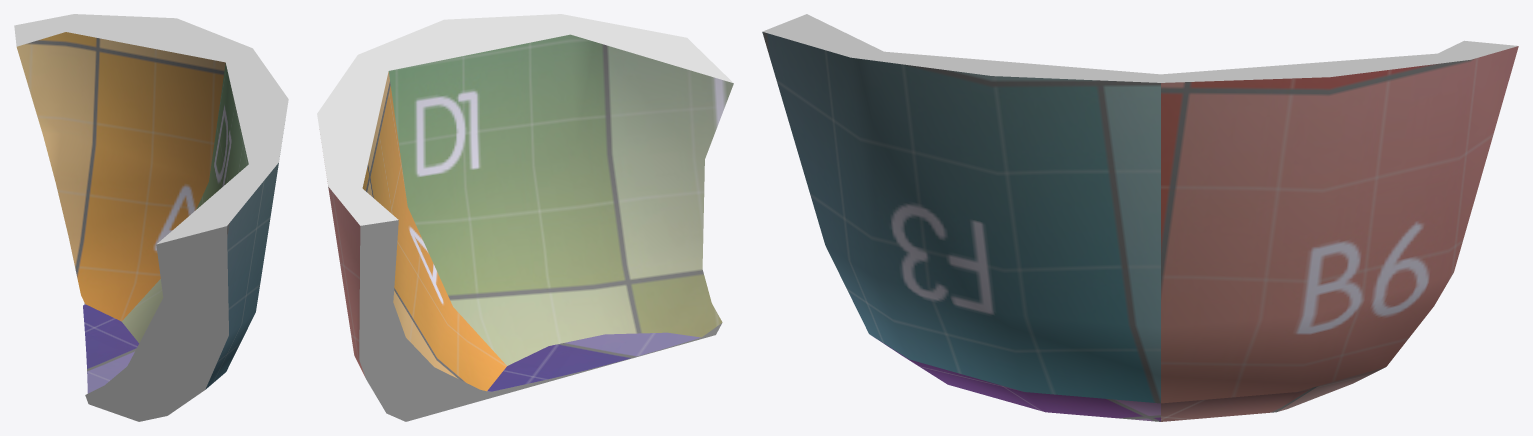
Rendered from MediumUrn_SHAT_cell_002.fbx.
3 views of the same model, side by side, from view 1: azimuth 30°, elevation 25°; view 2: azimuth 150°, elevation 25°; view 3: azimuth 270°, elevation 25° (orthographic). The views are drawn at different scales.
Visible parts, largest first — view 1: MediumUrn_SHAT_cell_002; view 2: MediumUrn_SHAT_cell_002; view 3: MediumUrn_SHAT_cell_002.
Part boxes in pixels (x1,y1,x2,y2): MediumUrn_SHAT_cell_002: (14,14,288,421); MediumUrn_SHAT_cell_002: (317,14,733,421); MediumUrn_SHAT_cell_002: (762,14,1518,421).
Bounding box in the file's own units: 0.4778 × 0.5124 × 0.8476.
Materials: 2 (1 with a texture image).
